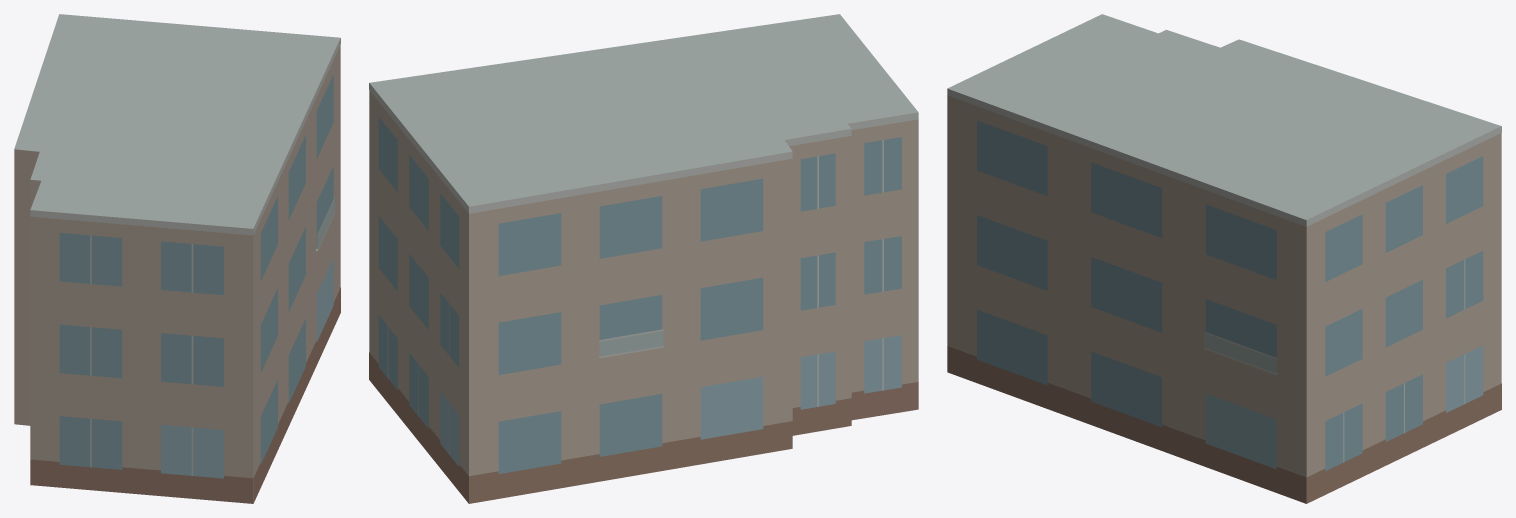
Rendered from survey-upis-32628373.glb.
3 renders of one model, left to right at view 1: azimuth 30°, elevation 25°; view 2: azimuth 150°, elevation 25°; view 3: azimuth 270°, elevation 25°, orthographic. The views are drawn at different scales.
Parts seen in each view (by area): view 1: survey-upis-32628373.tmp; view 2: survey-upis-32628373.tmp; view 3: survey-upis-32628373.tmp.
Part boxes in pixels (x1,y1,x2,y2): survey-upis-32628373.tmp: (14, 14, 340, 503); survey-upis-32628373.tmp: (369, 14, 918, 503); survey-upis-32628373.tmp: (947, 14, 1501, 503).
Bounding box in the file's own units: 16.06 × 10.3 × 18.25.
